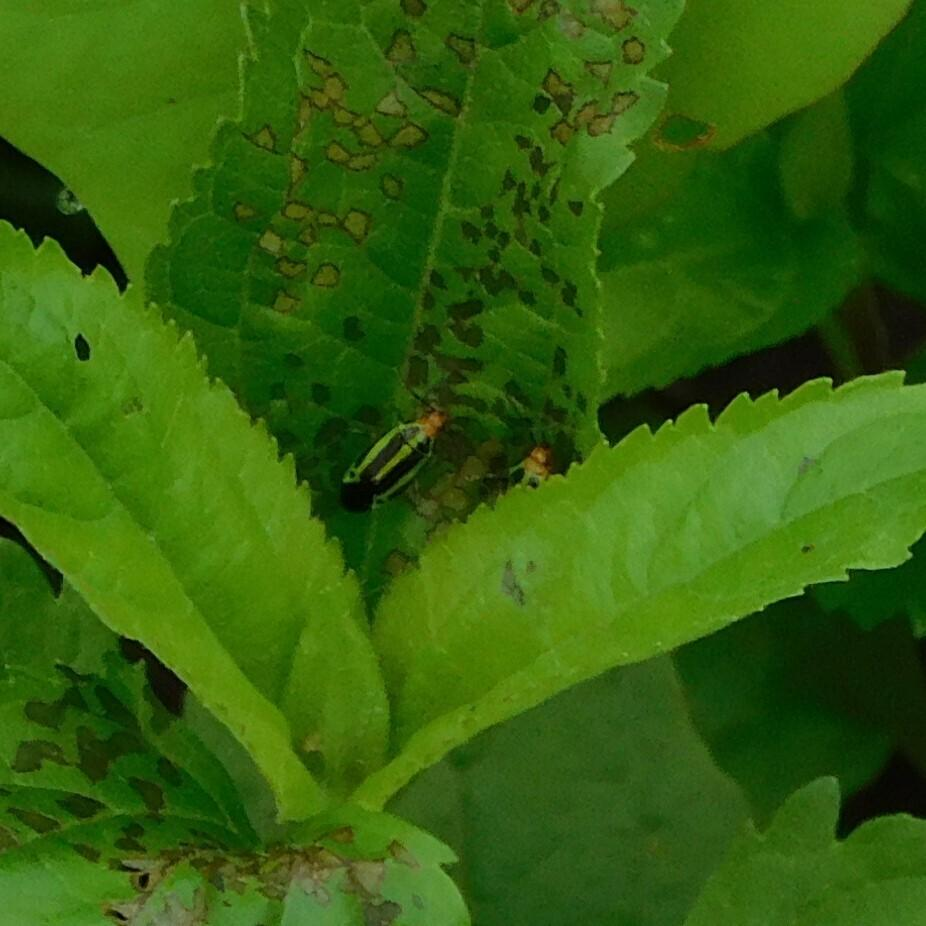plant_bugs: (309, 346, 463, 536)
